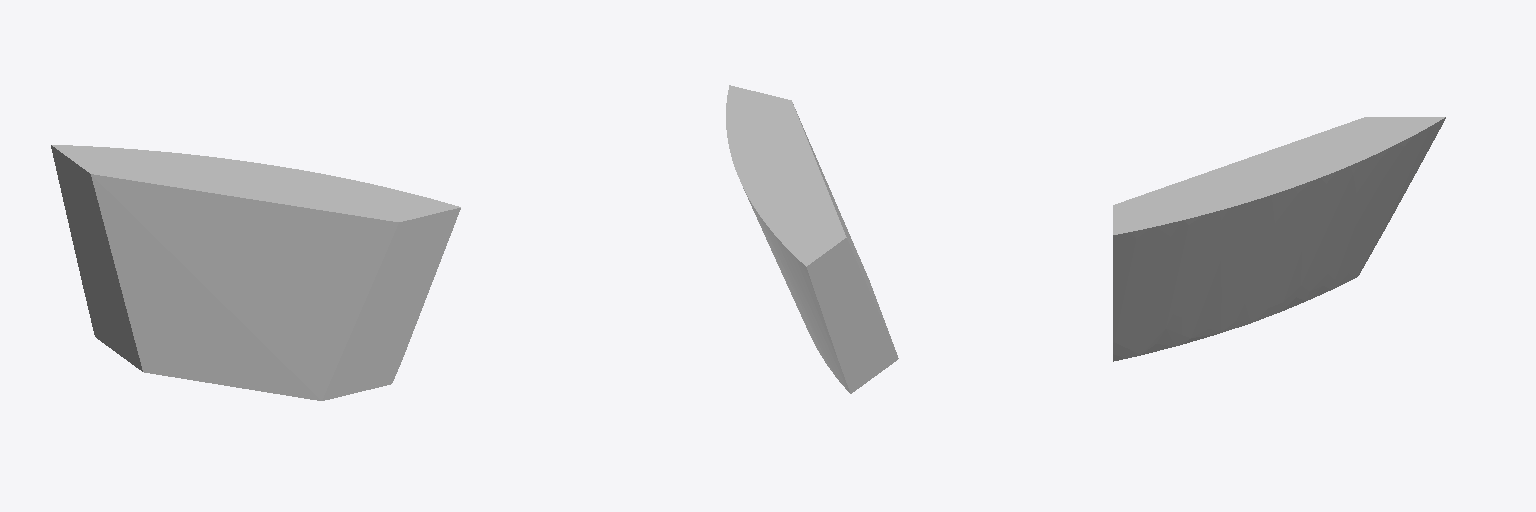
File: skillet_collision_29.obj
3 renders of one model, left to right at view 1: azimuth 30°, elevation 25°; view 2: azimuth 150°, elevation 25°; view 3: azimuth 270°, elevation 25°, orthographic.
Bounding box in the file's own units: 0.0341 × 0.0214 × 0.0405.